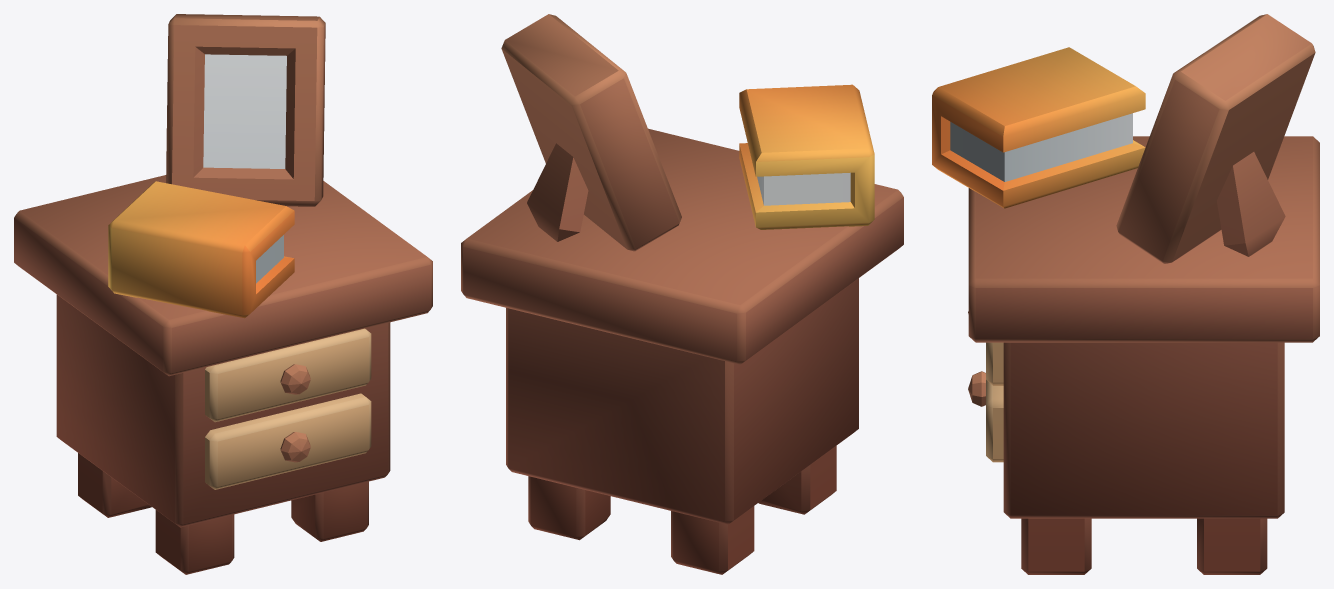
Rendered from cabinet_small_decorated.glb.
3 renders of one model, left to right at view 1: azimuth 30°, elevation 25°; view 2: azimuth 150°, elevation 25°; view 3: azimuth 270°, elevation 25°, orthographic. The views are drawn at different scales.
Visible parts, largest first — view 1: cabinet_small_decorated; view 2: cabinet_small_decorated; view 3: cabinet_small_decorated.
Part boxes in pixels (<box>): cabinet_small_decorated: <box>14,14,432,574</box>; cabinet_small_decorated: <box>461,14,903,574</box>; cabinet_small_decorated: <box>932,14,1319,574</box>.
Size of the model in its own units: 0.7333 by 1.13 by 0.7727.
1 material, 1 textured.
